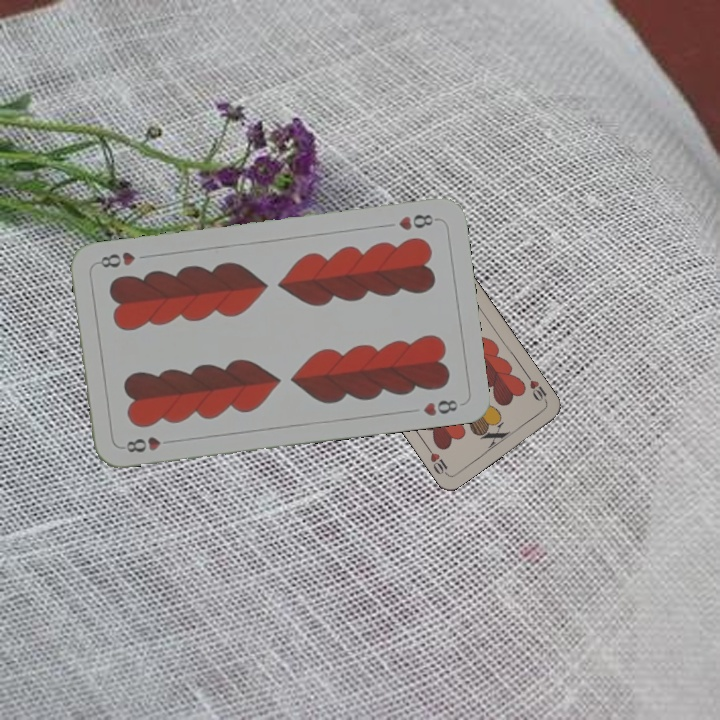H10: (522, 370, 550, 406)
H8: (122, 433, 177, 455), (394, 210, 440, 233)
